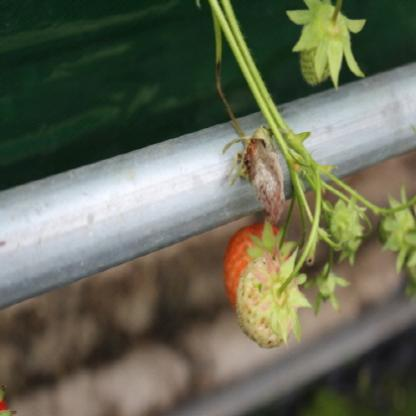Strawberry_Gray_Mold: (234, 126, 286, 226)
